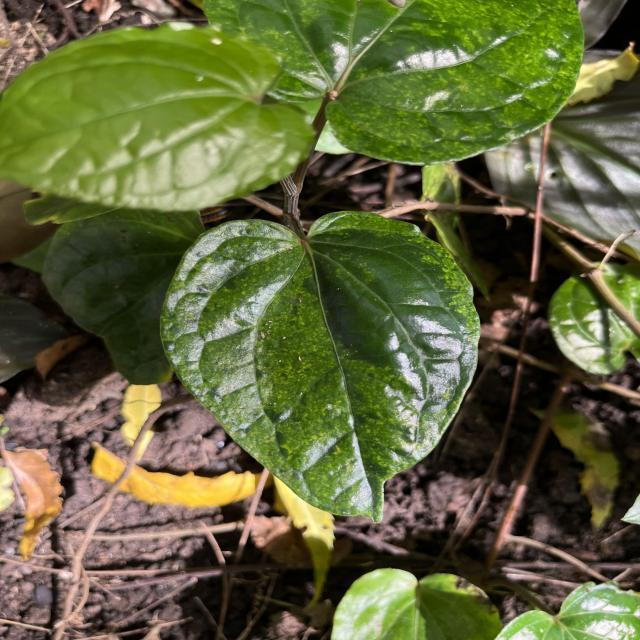Piper betle: (156, 207, 485, 528)
